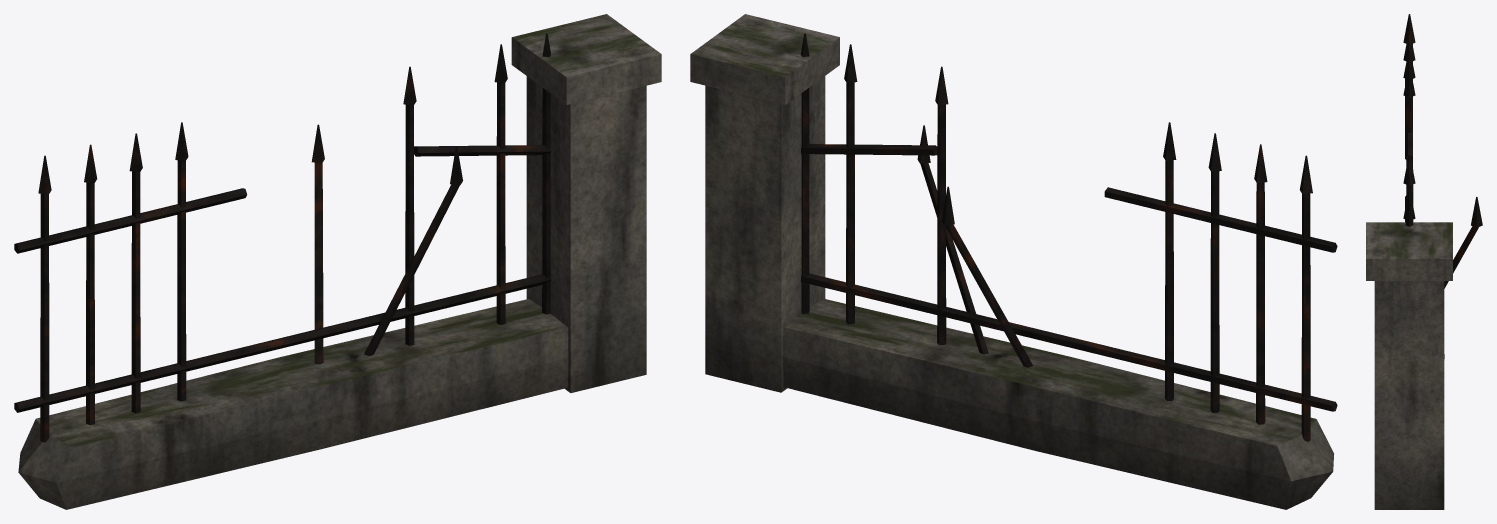
File: iron_fence_broken.glb
3 renders of one model, left to right at view 1: azimuth 30°, elevation 25°; view 2: azimuth 150°, elevation 25°; view 3: azimuth 270°, elevation 25°, orthographic. The views are drawn at different scales.
Parts seen in each view (by area): view 1: iron_fence_broken; view 2: iron_fence_broken; view 3: iron_fence_broken.
Part boxes in pixels (x1,y1,x2,y2): iron_fence_broken: (14, 14, 661, 509); iron_fence_broken: (690, 14, 1337, 509); iron_fence_broken: (1366, 14, 1482, 509).
Size of the model in its own units: 3.25 by 1.73 by 0.6732.
1 material, 1 textured.
